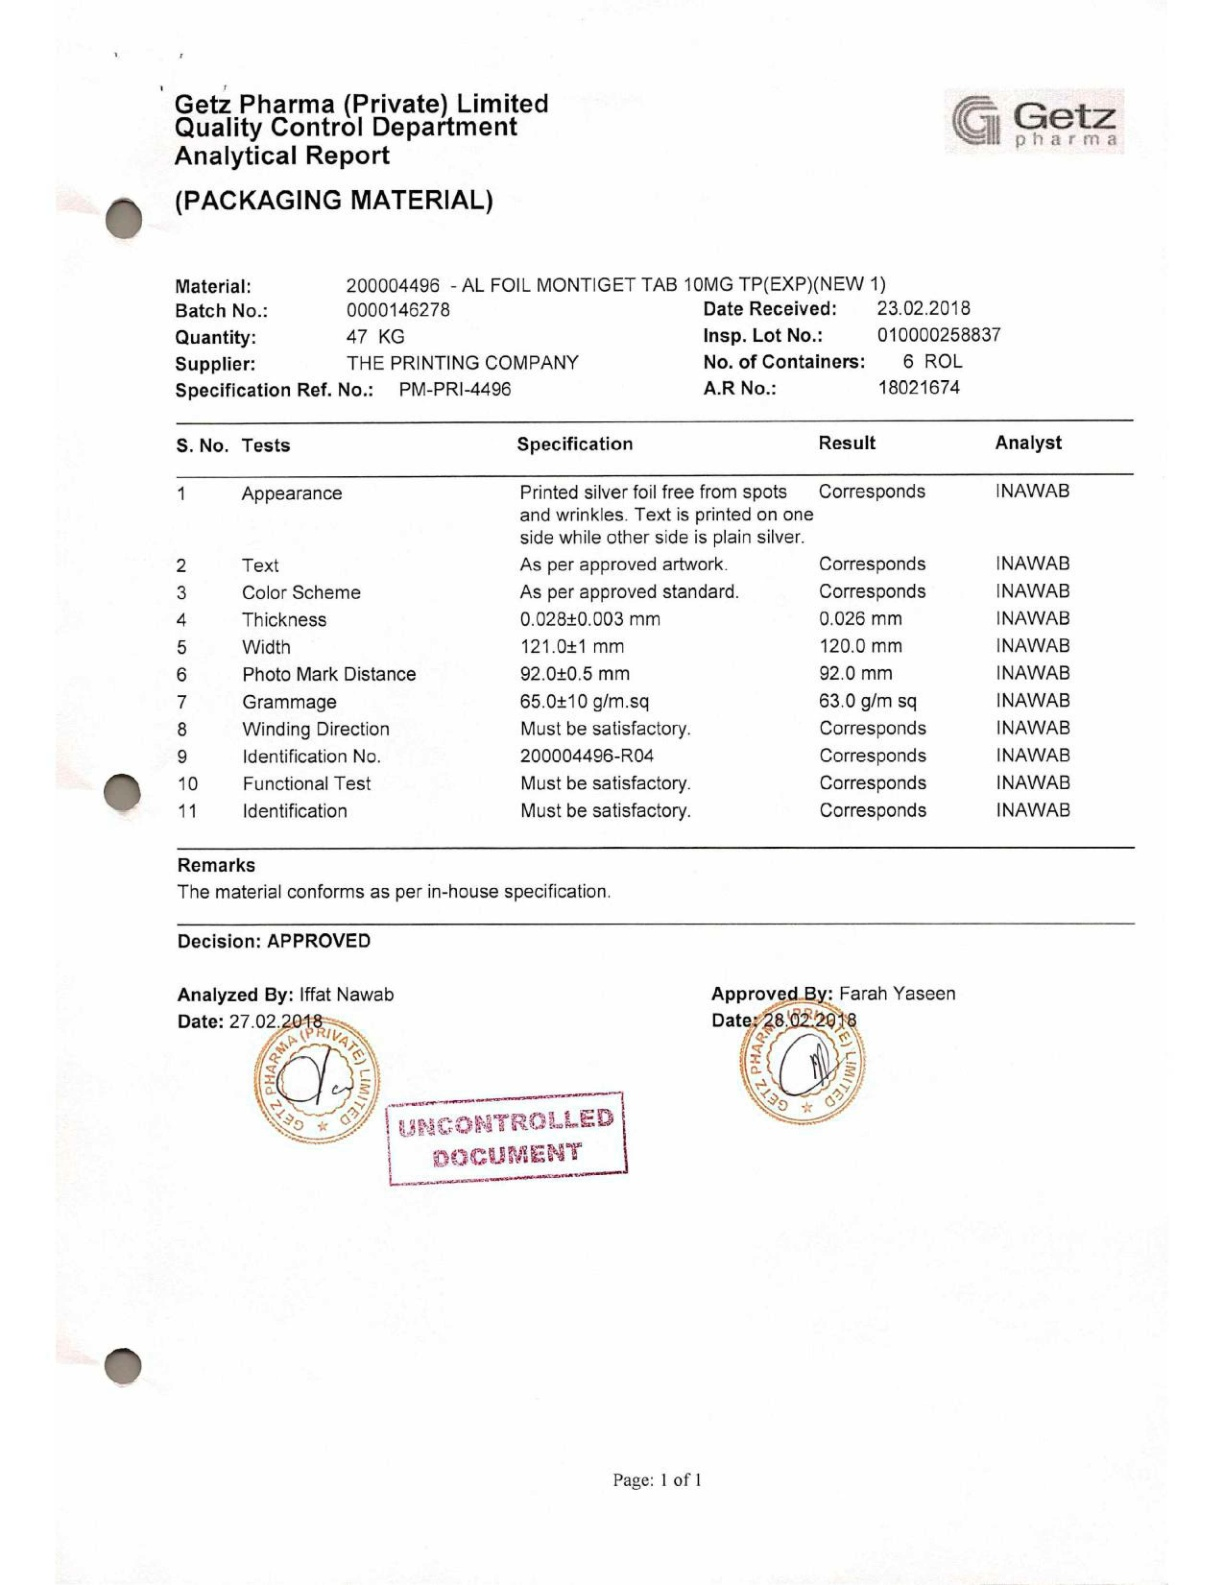nolines: (172, 274, 1004, 400)
partial_lined: (174, 422, 1138, 854)
